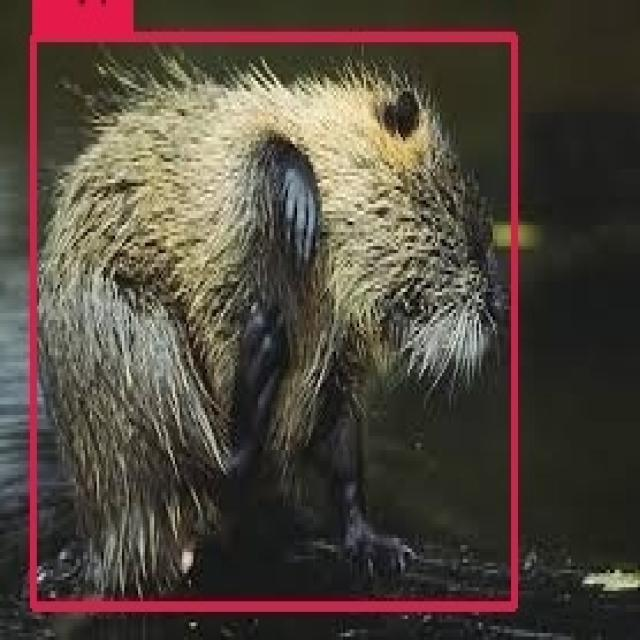rat: (34, 39, 516, 605)
